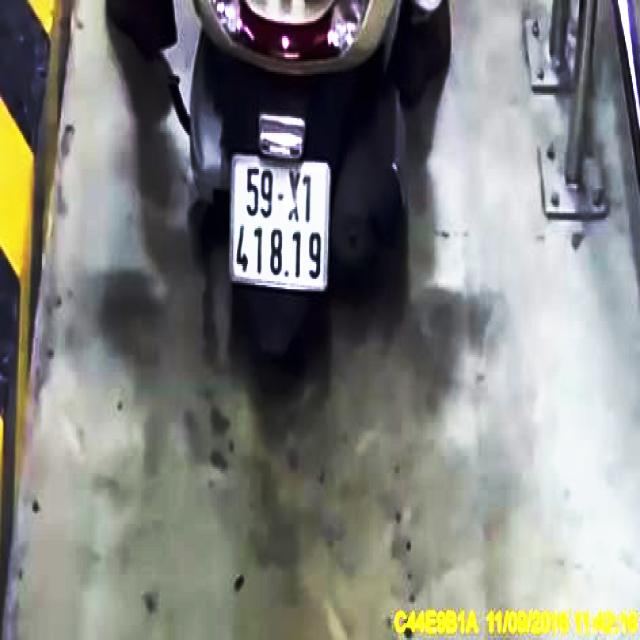license_plate: (231, 157, 331, 288)
